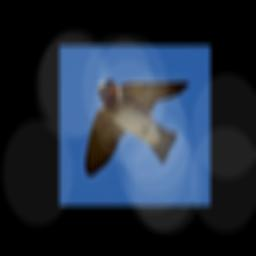Swallow: (84, 80, 191, 178)
